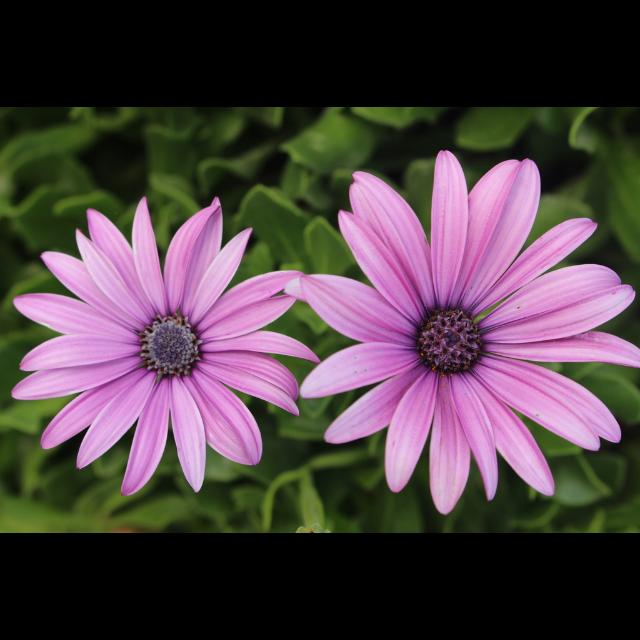Flower: (309, 159, 605, 533), (9, 194, 320, 496)
